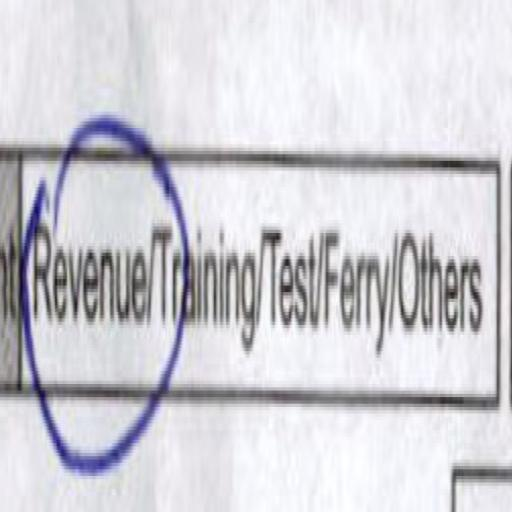check: (21, 115, 152, 512)
